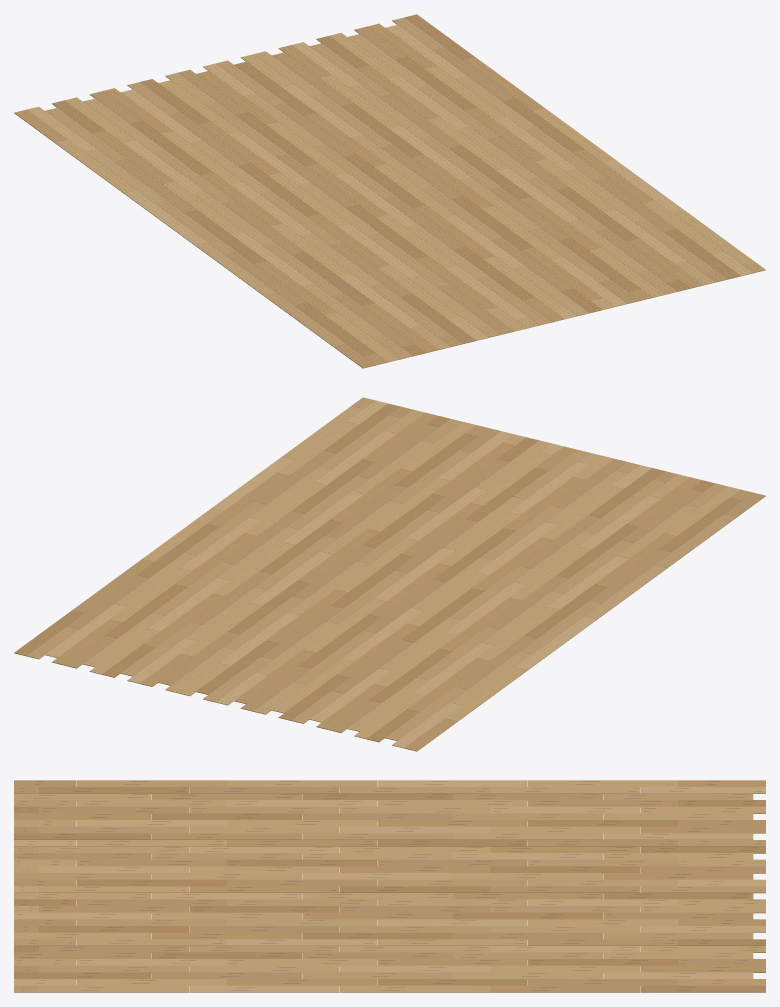
The model's file is floor_oak_cafe.glb.
The picture shows the model from 3 angles, top to bottom: view 1: azimuth 30°, elevation 25°; view 2: azimuth 150°, elevation 25°; view 3: azimuth 270°, elevation 25°; orthographic projection. The views are drawn at different scales.
Visible parts, largest first — view 1: floor_oak_cafe; view 2: floor_oak_cafe; view 3: floor_oak_cafe.
Part boxes in pixels (<box>): floor_oak_cafe: <box>14,14,765,368</box>; floor_oak_cafe: <box>14,397,765,751</box>; floor_oak_cafe: <box>14,780,765,992</box>.
Bounding box in the file's own units: 6.4 × 0.0088 × 9.6.
